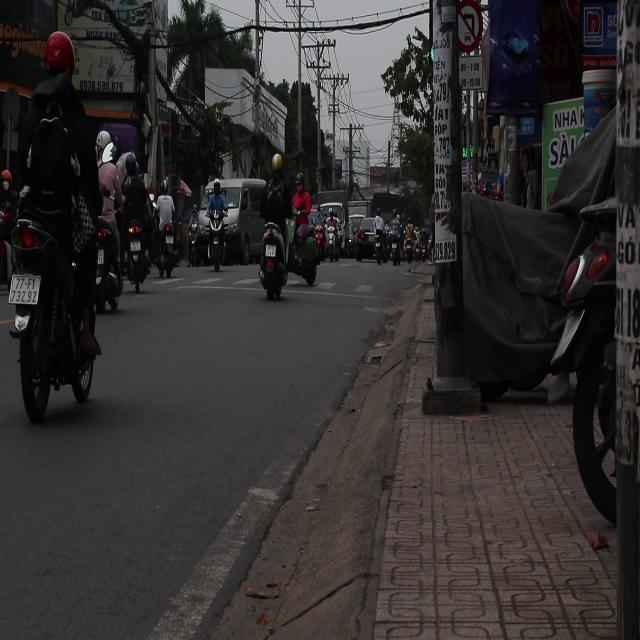car: (204, 177, 266, 267), (347, 216, 384, 262)
motorbike: (2, 172, 104, 416), (117, 175, 158, 293), (95, 210, 123, 315), (289, 216, 326, 288), (258, 222, 290, 300), (202, 194, 232, 271), (154, 202, 180, 280), (320, 212, 341, 263), (189, 208, 202, 265)
